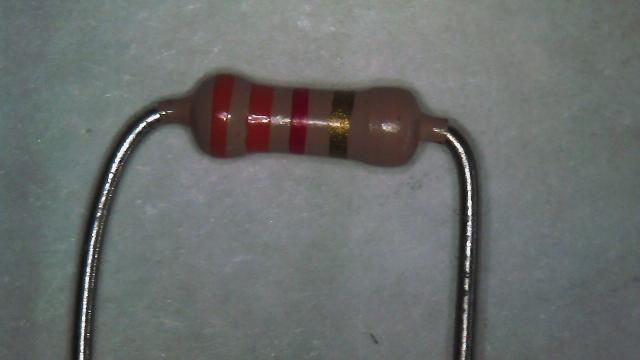gold: (328, 91, 353, 158)
orange: (210, 74, 234, 158), (246, 84, 273, 151)
red: (289, 87, 309, 153)
resistor: (166, 57, 443, 185)
